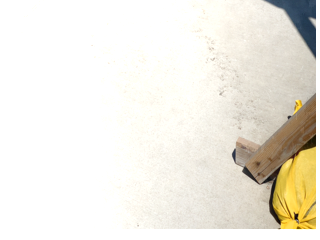Obstacle: (231, 78, 319, 234)
